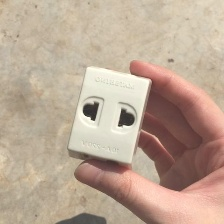three_eye_plug: (64, 62, 155, 172)
